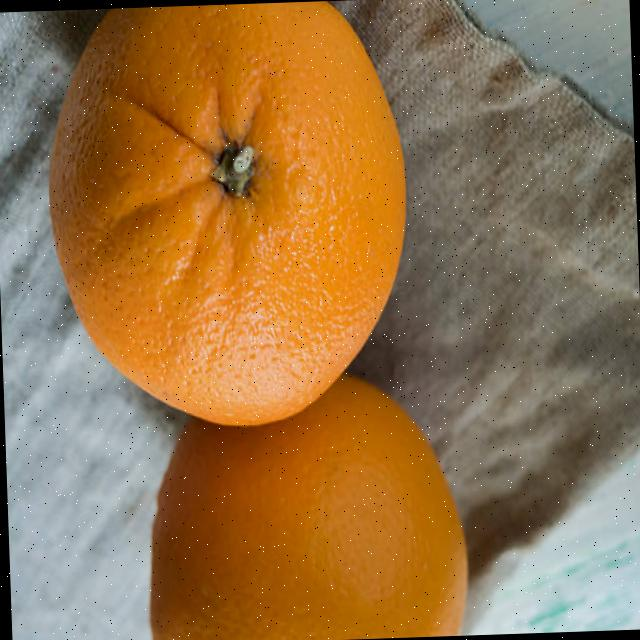Ripe: (36, 0, 419, 439), (139, 412, 474, 640)
